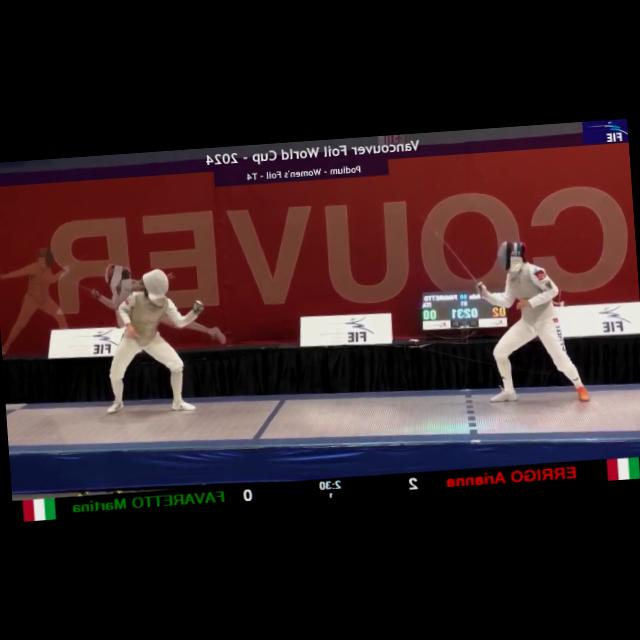blade: (418, 211, 483, 292)
